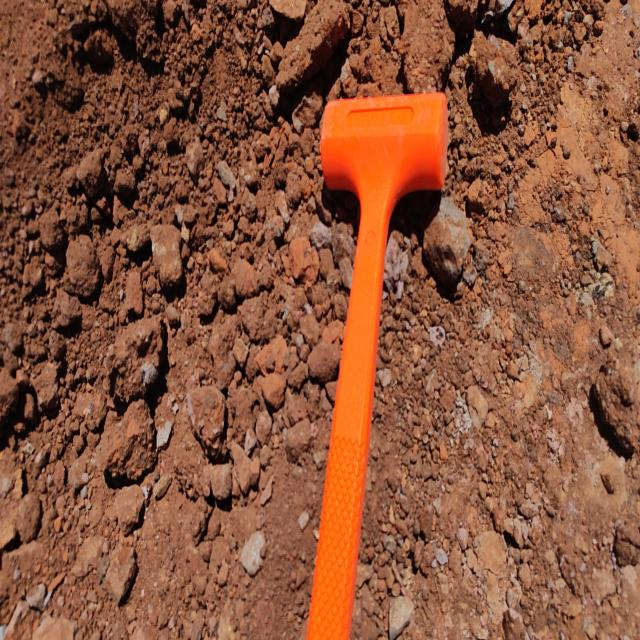Orange_hammer: (305, 90, 449, 638)
